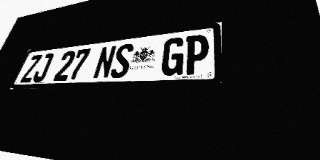2: (53, 50, 77, 81)
7: (67, 48, 91, 81)
G: (160, 37, 186, 76)
J: (31, 53, 54, 82)
N: (92, 45, 117, 79)
P: (183, 34, 209, 75)
S: (109, 43, 134, 78)
Z: (20, 54, 43, 83)
